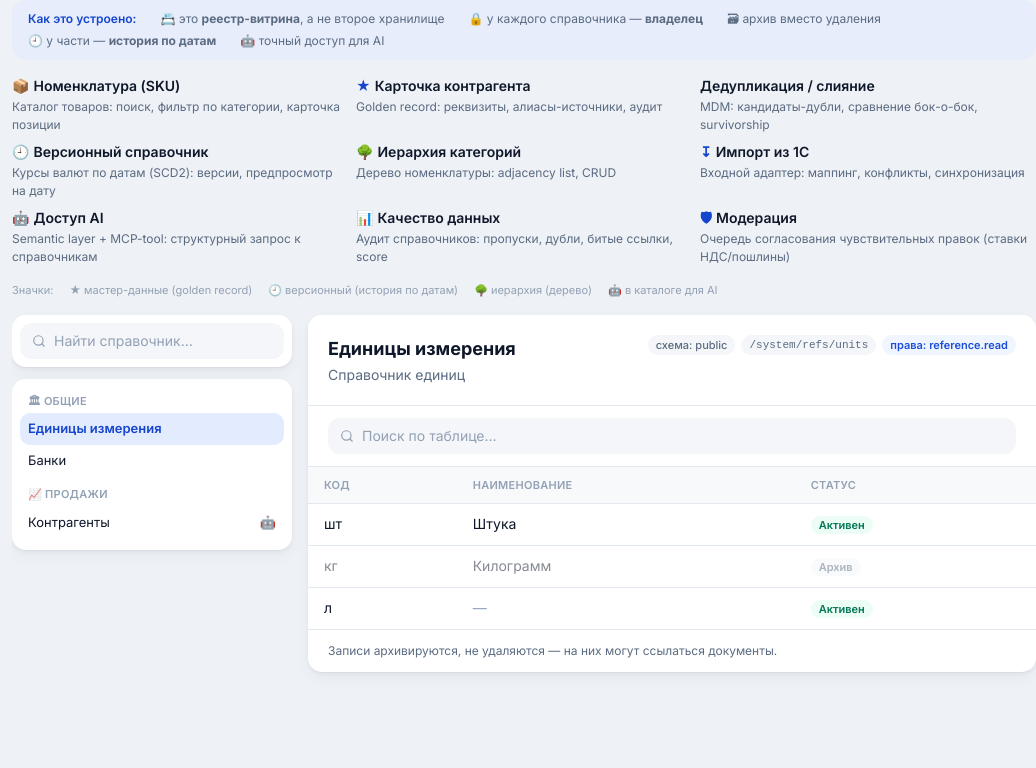
Scenario: SpravCatalog › поиск по таблице фильтрует строки по значению (регистронезависимо) и показывает «Ничего не найдено»
The width and height of the screenshot is (1036, 768).
// регистронезависимо: «штука» находит «Штука», прочие строки скрыты
Type "штука" into the field with placeholder "Поиск по таблице…" at point(683, 436), box [362,426,1004,446]
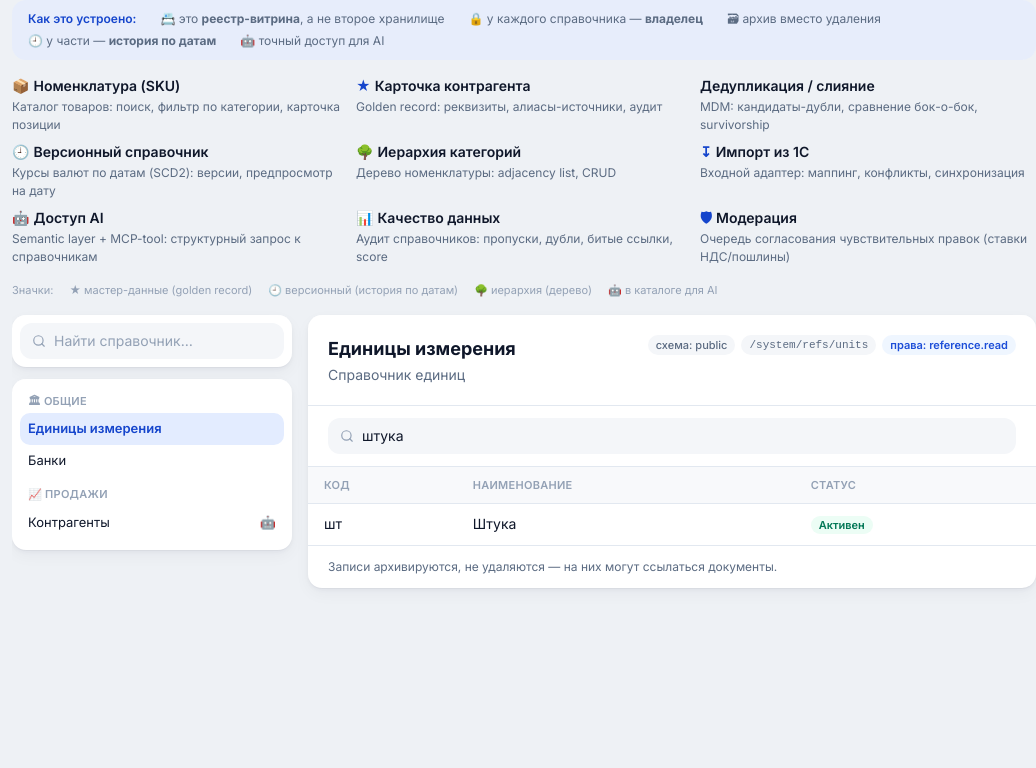
Check: the text "Штука" is shown, box [457,503,795,544]
Check: the text "Килограмм" is gone
// нет совпадений → строка-заглушка
Replace the text in the field with placeholder "Поиск по таблице…" with "zzz-нет-такого" at point(683, 436), box [362,426,1004,446]
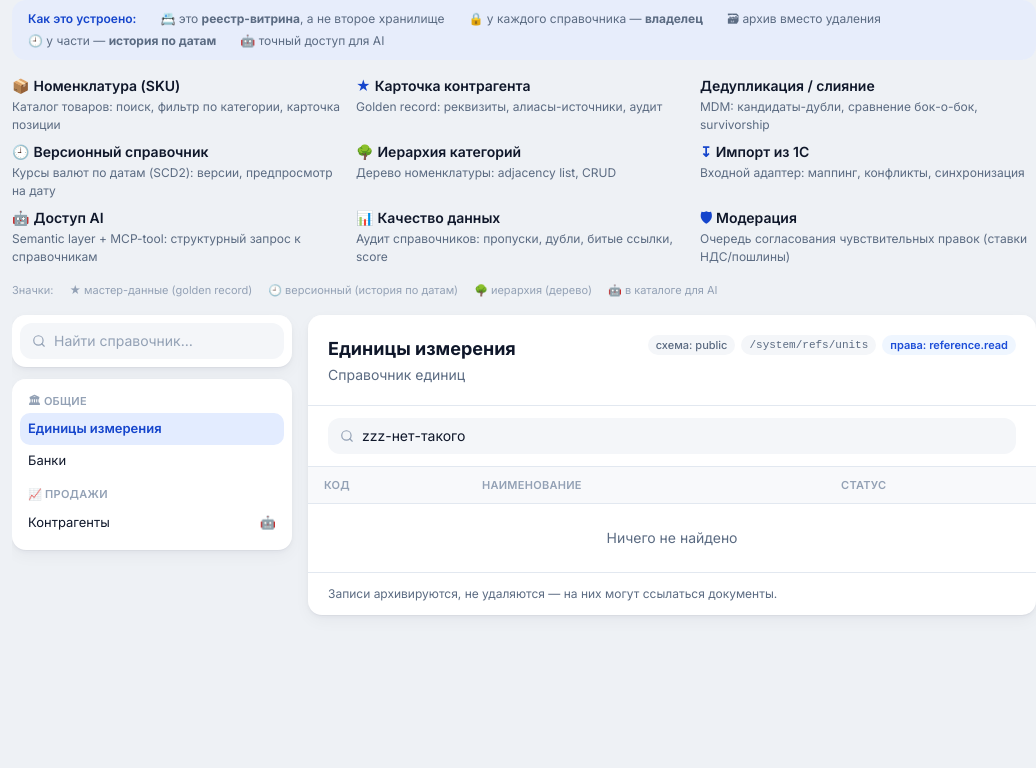
Check: the text "Штука" is gone
Check: the text "Ничего не найдено" is shown, box [308,503,1035,572]
